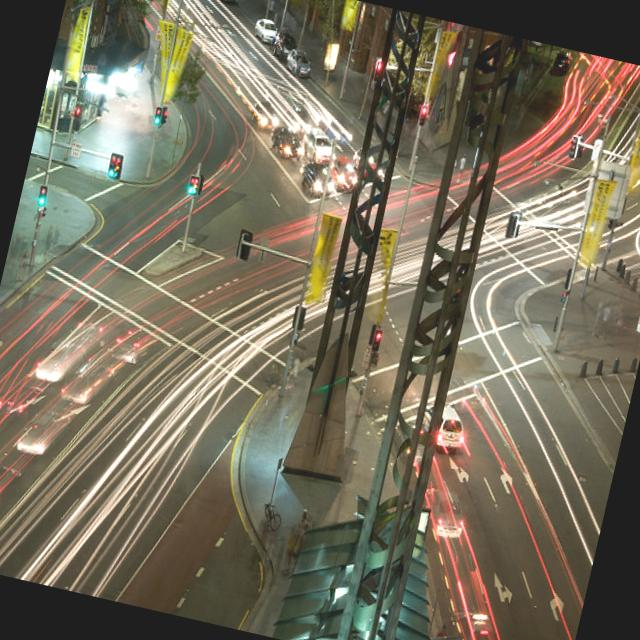Vehicle: (0, 271, 627, 640), (415, 399, 470, 456), (422, 483, 472, 540), (298, 123, 337, 165), (267, 124, 306, 161), (327, 154, 360, 193), (248, 96, 282, 132), (297, 160, 329, 196), (348, 146, 380, 182), (282, 46, 314, 76), (251, 16, 282, 46), (271, 34, 297, 64)
